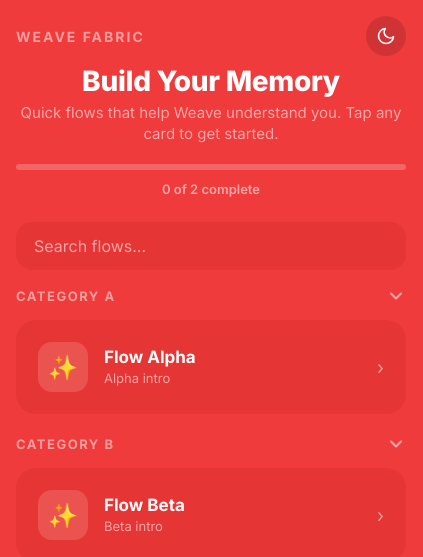
Scenario: FlowList › filters flows by search query
In the field with placeholder "Search flows...": (211, 246) [16, 222, 406, 270], type "Beta"
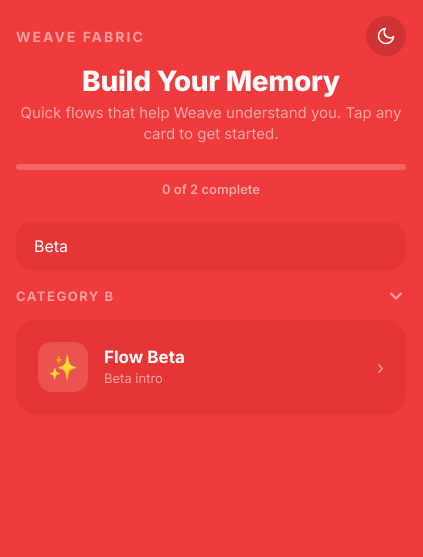
Expected: the text "Flow Beta" is shown, [104, 347, 185, 367]
Expected: the button "Flow Alpha" is gone
